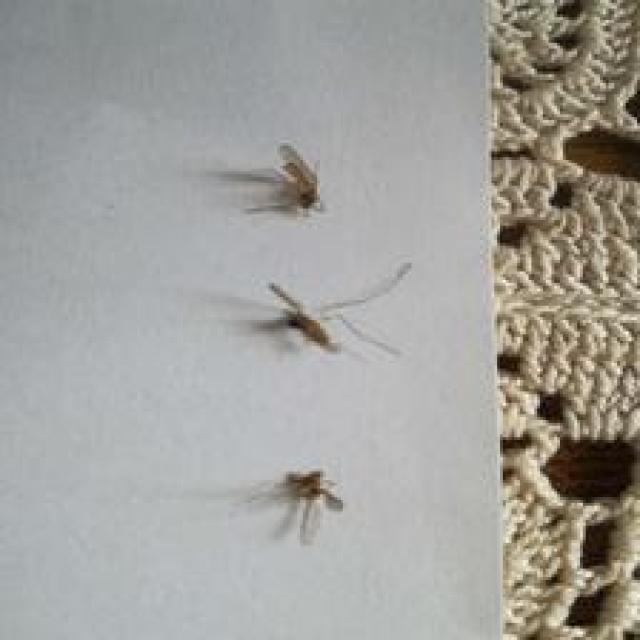Culex: (252, 260, 412, 360)
